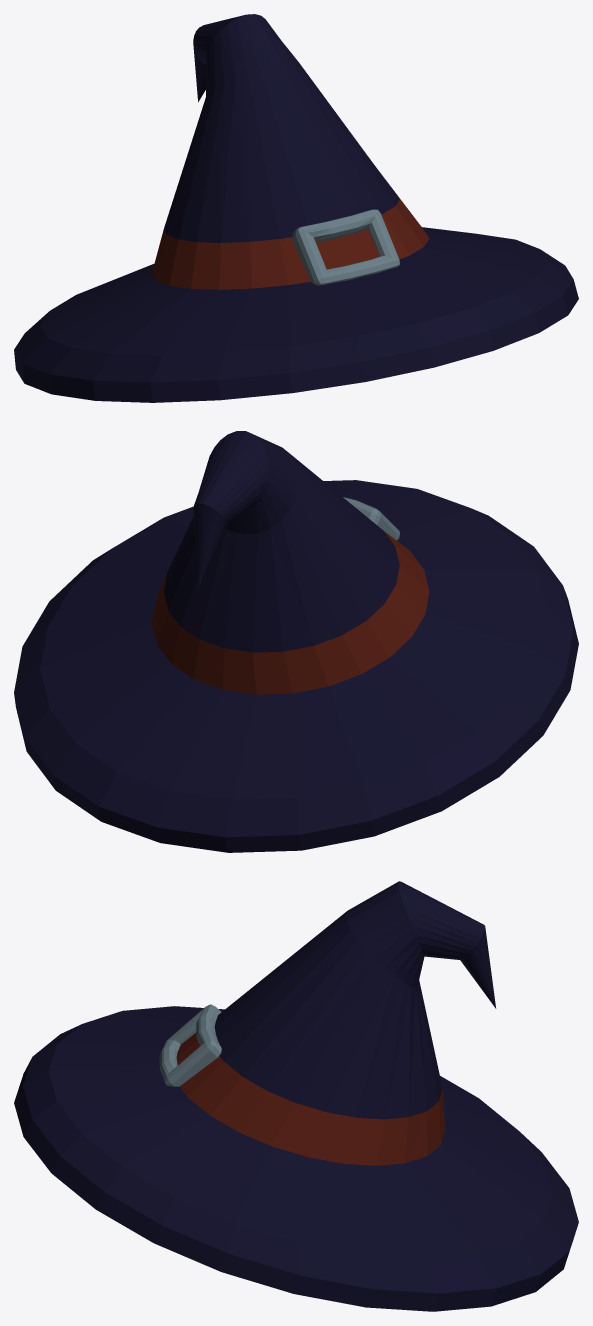
File: character_mageHat.obj
The picture shows the model from 3 angles, top to bottom: view 1: azimuth 30°, elevation 25°; view 2: azimuth 150°, elevation 25°; view 3: azimuth 270°, elevation 25°; orthographic projection. The views are drawn at different scales.
Visible parts, largest first — view 1: character_mageHat_Cube.021; view 2: character_mageHat_Cube.021; view 3: character_mageHat_Cube.021.
Part boxes in pixels (x1,y1,x2,y2): character_mageHat_Cube.021: [14, 14, 578, 402]; character_mageHat_Cube.021: [14, 431, 578, 852]; character_mageHat_Cube.021: [14, 881, 578, 1311].
Size of the model in its own units: 2.1 by 1.42 by 2.05.
